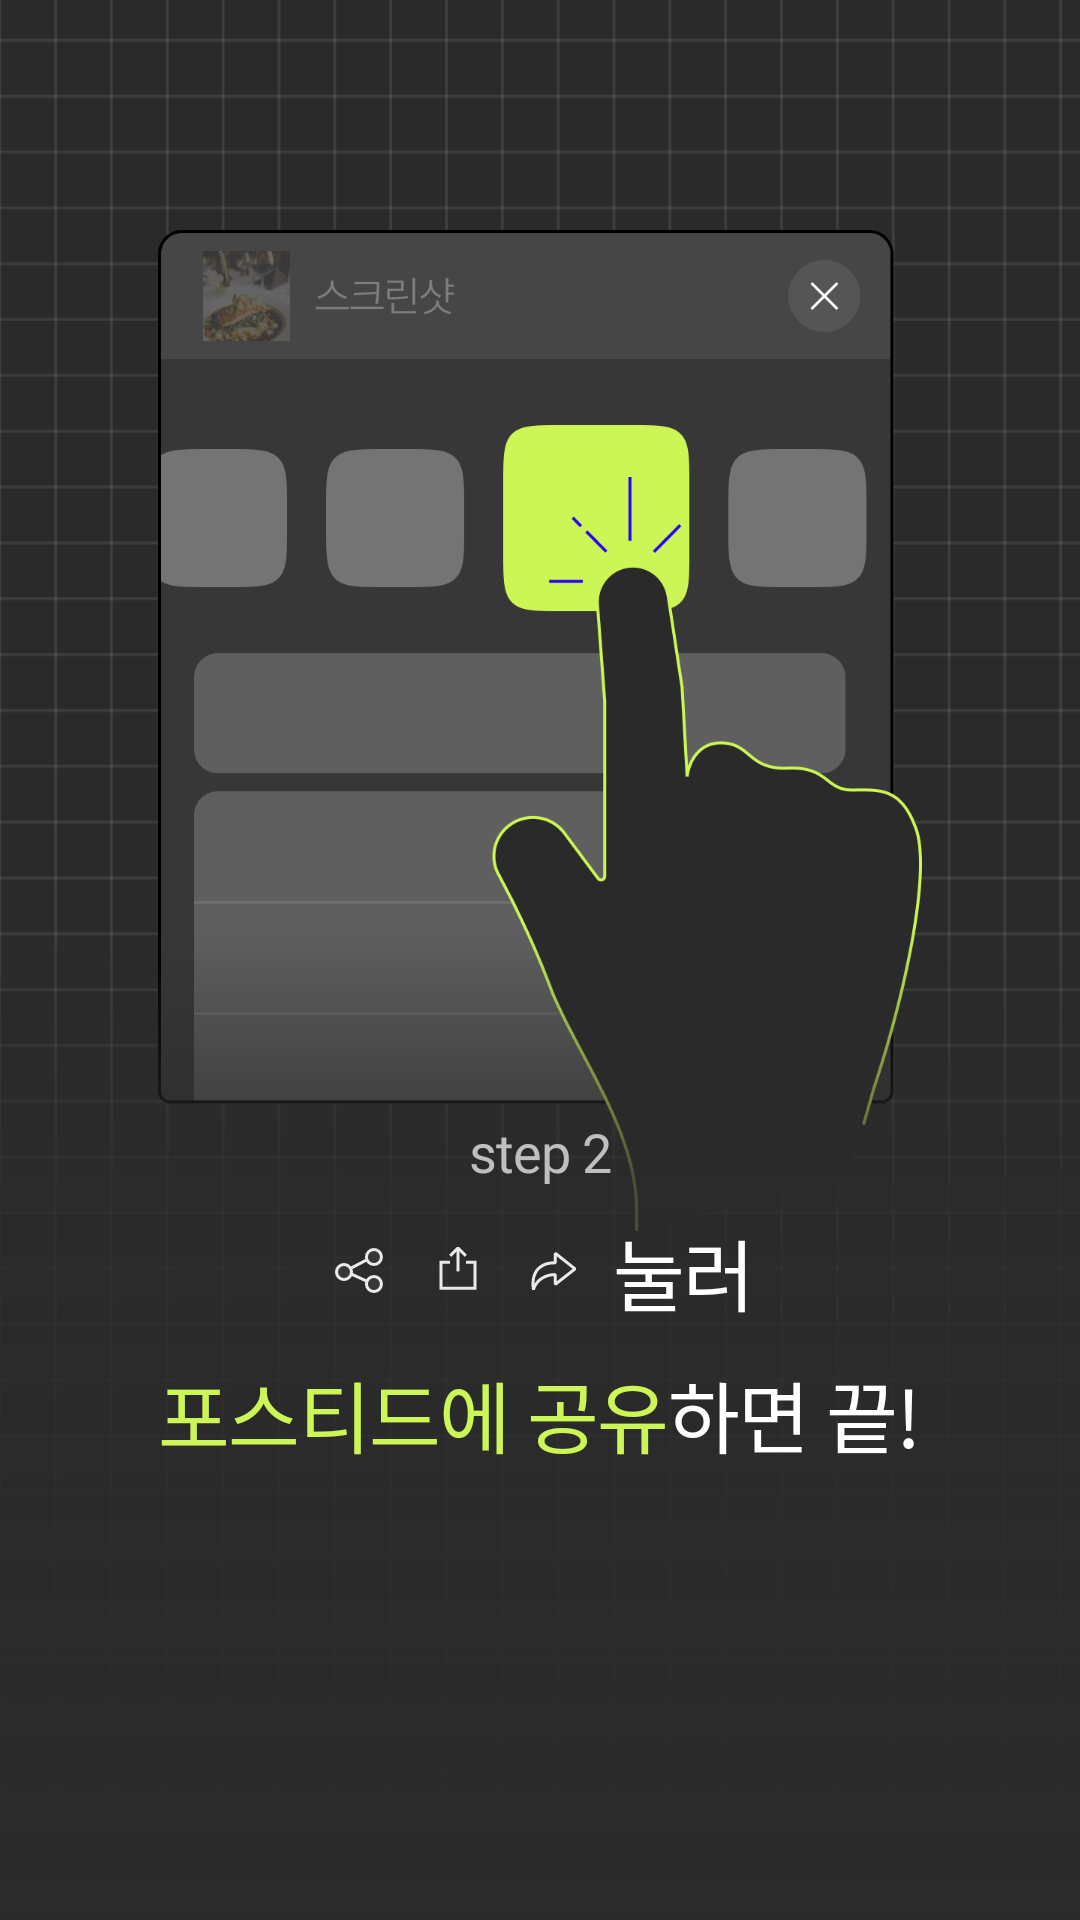

Icons on this 1080*1920 Android screen, each with the point to tap as (x=x, y=y):
tutorial share: (x=458, y=1268), (x=359, y=1270), (x=553, y=1271)
